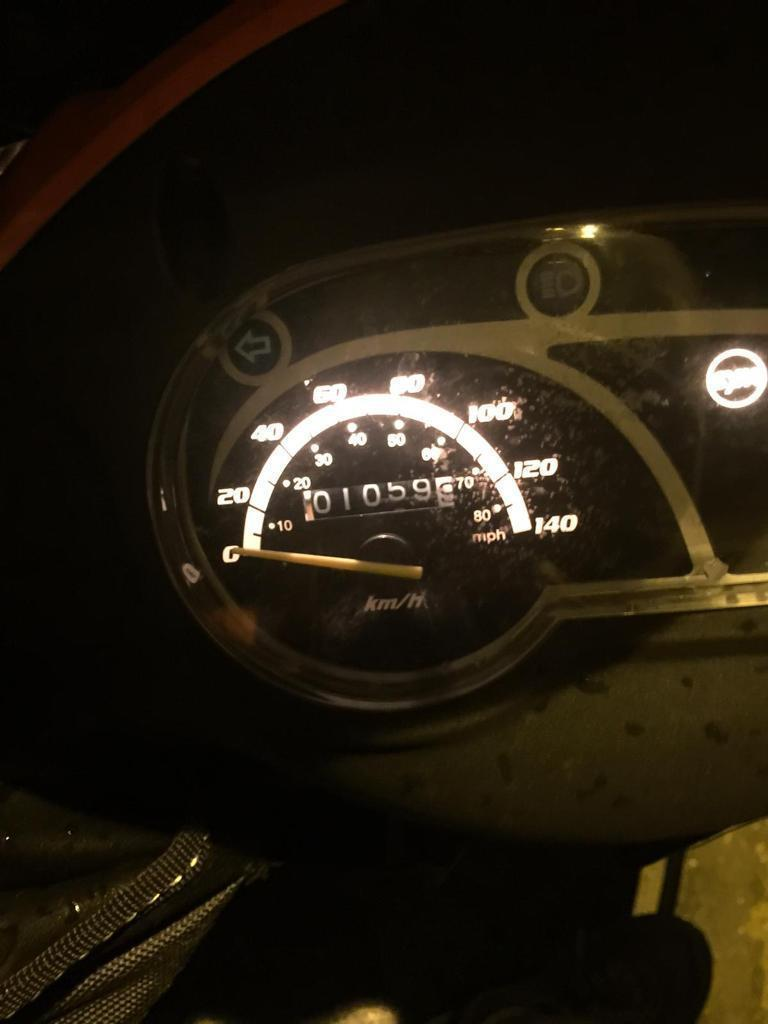0: (360, 483, 382, 508), (311, 489, 332, 514), (301, 475, 311, 488)
1: (339, 485, 353, 512)
5: (385, 480, 406, 502)
9: (410, 477, 432, 502), (437, 481, 455, 505)
odometer: (298, 471, 458, 524)
